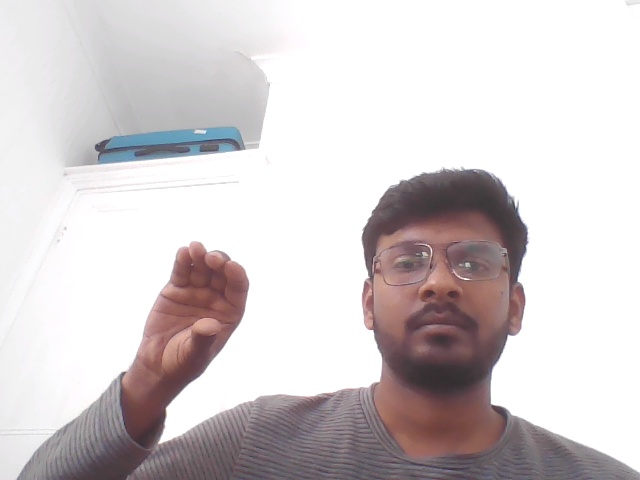No: (69, 198, 279, 400)
